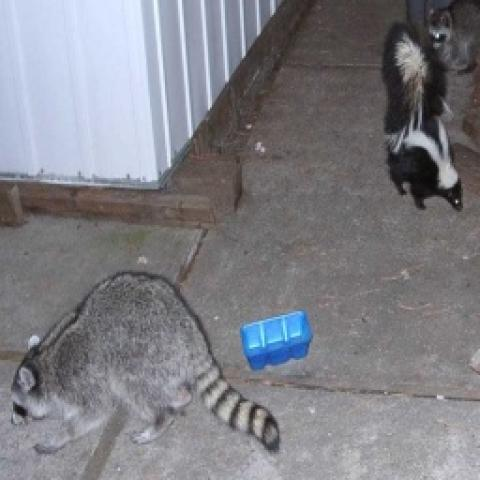small_animal: (11, 268, 285, 453), (379, 19, 466, 211), (426, 0, 478, 73)
